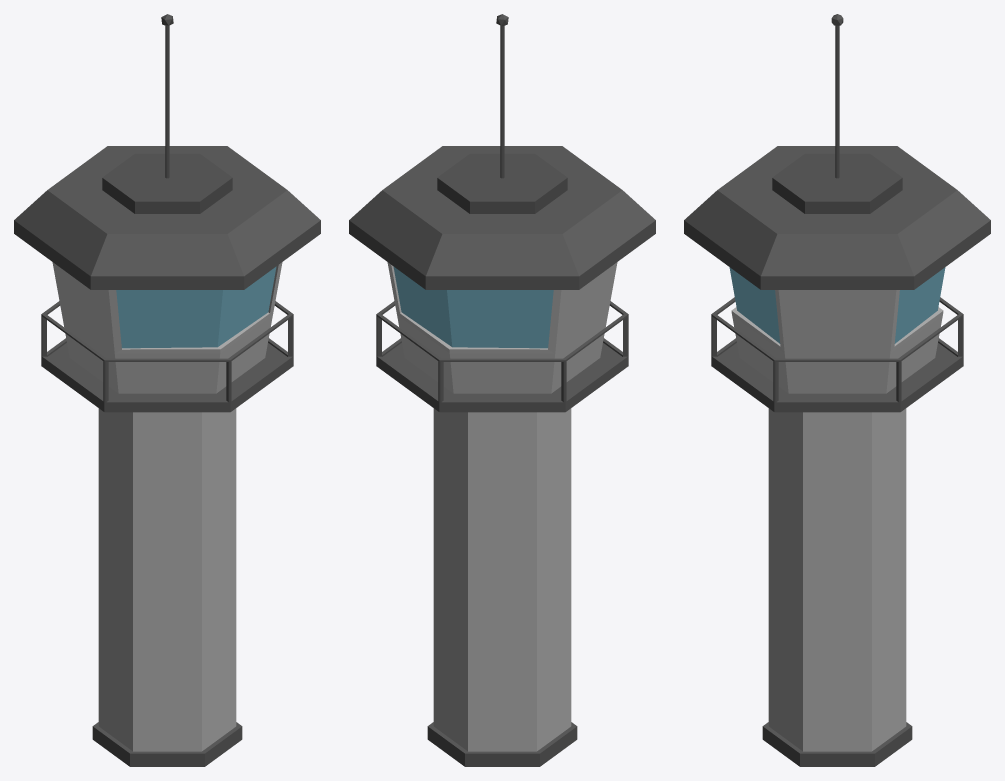
Rendered from Building_01.fbx.
3 renders of one model, left to right at view 1: azimuth 30°, elevation 25°; view 2: azimuth 150°, elevation 25°; view 3: azimuth 270°, elevation 25°, orthographic.
Visible parts, largest first — view 1: Building_01; view 2: Building_01; view 3: Building_01.
Part boxes in pixels (x1=…): Building_01: x1=14, y1=14, x2=320, y2=766; Building_01: x1=349, y1=14, x2=655, y2=766; Building_01: x1=684, y1=14, x2=990, y2=766.
Bounding box in the file's own units: 578 × 1741 × 667.
